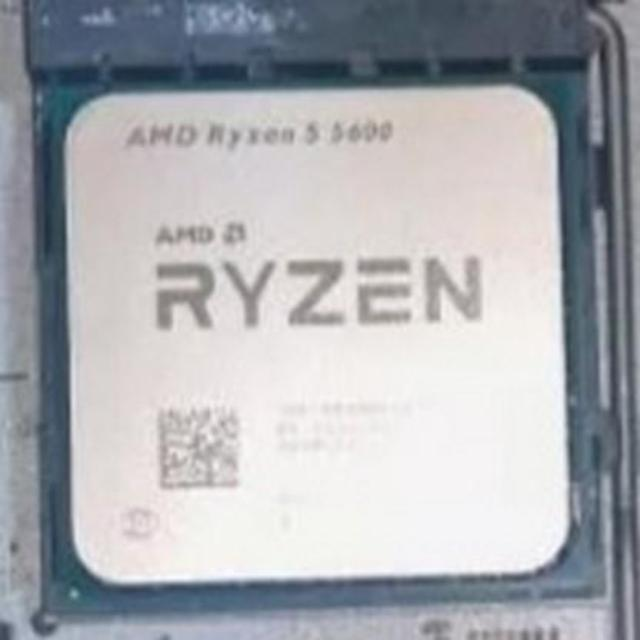CPU: (38, 75, 608, 597)
